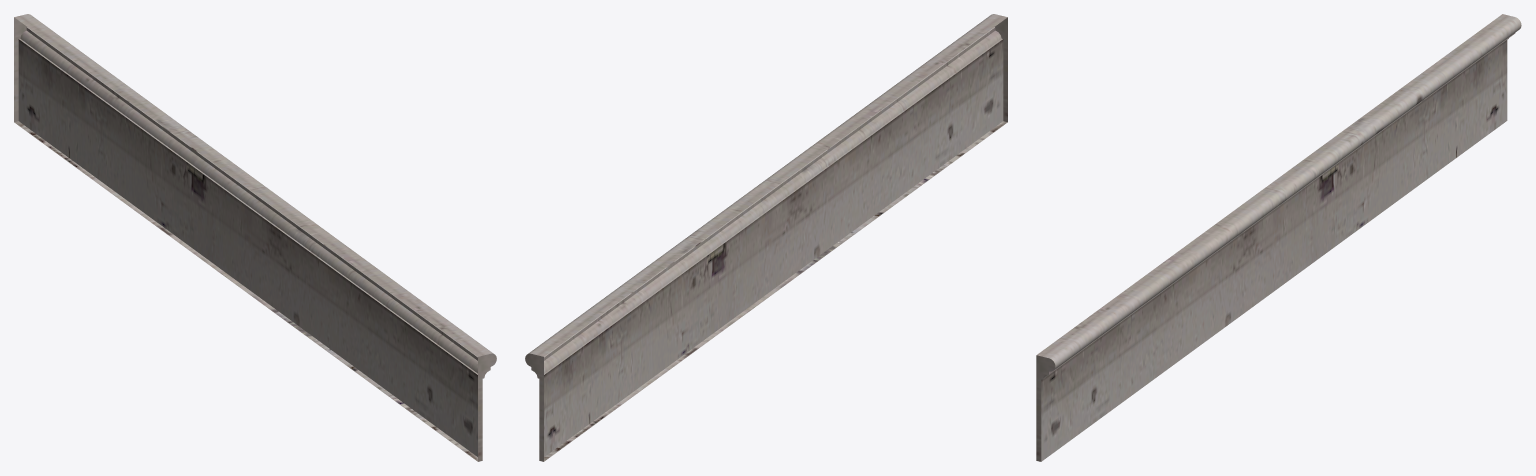
The model's file is railing_trim_64.glb.
3 views of the same model, side by side, from view 1: azimuth 30°, elevation 25°; view 2: azimuth 150°, elevation 25°; view 3: azimuth 330°, elevation 25° (orthographic).
Parts seen in each view (by area): view 1: railing_trim_64; view 2: railing_trim_64; view 3: railing_trim_64.
Part boxes in pixels (<box>): railing_trim_64: <box>14,14,496,461</box>; railing_trim_64: <box>525,14,1007,461</box>; railing_trim_64: <box>1036,14,1521,461</box>.
Bounding box in the file's own units: 0.0286 × 0.1524 × 1.22.
1 material, 1 textured.
